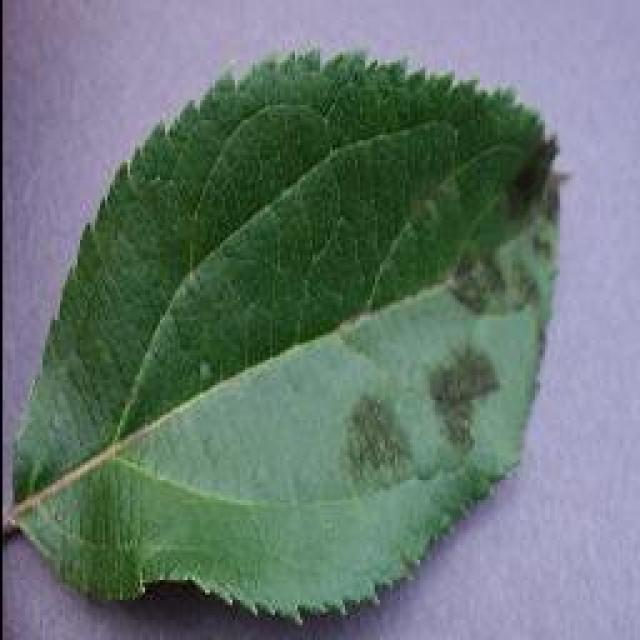apple scab disease: (2, 43, 568, 625)
